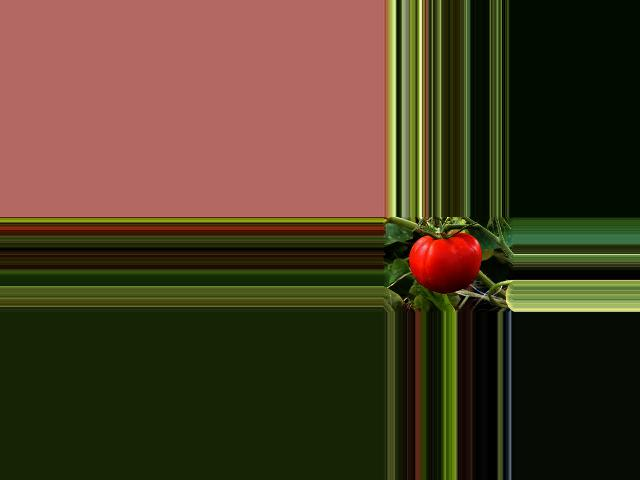tomato: (409, 233, 482, 293)
